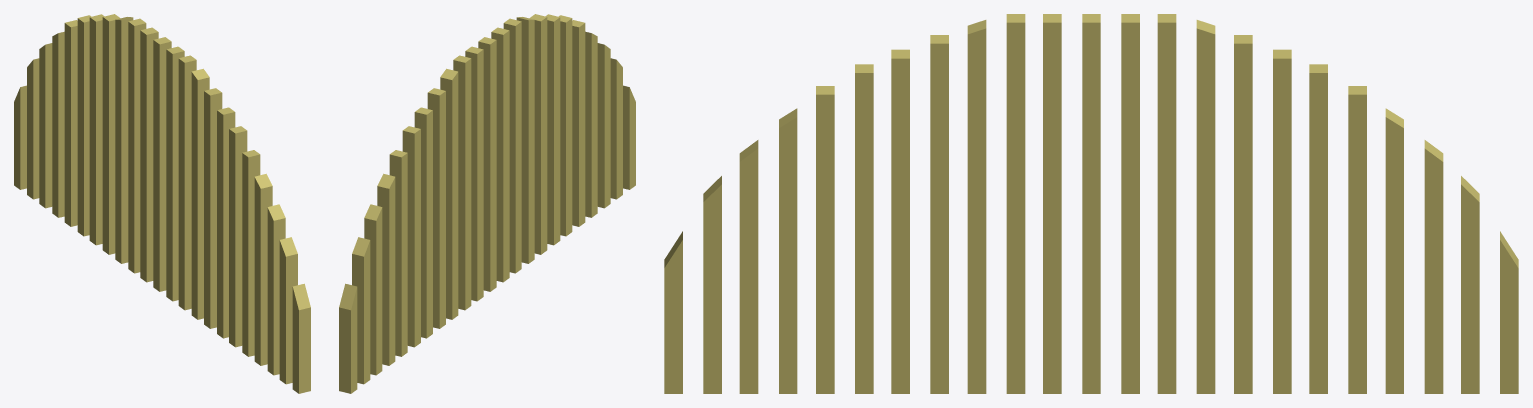
The model's file is pasted__gold_208.fbx.
The picture shows the model from 3 angles, left to right: view 1: azimuth 30°, elevation 25°; view 2: azimuth 150°, elevation 25°; view 3: azimuth 270°, elevation 25°; orthographic projection. The views are drawn at different scales.
Visible parts, largest first — view 1: pasted__gold_208; view 2: pasted__gold_208; view 3: pasted__gold_208.
Boxes of the visible parts, x1=… form: pasted__gold_208: x1=14, y1=14, x2=310, y2=393; pasted__gold_208: x1=339, y1=14, x2=635, y2=393; pasted__gold_208: x1=664, y1=14, x2=1518, y2=393.
Bounding box in the file's own units: 3 × 124 × 59.21.
